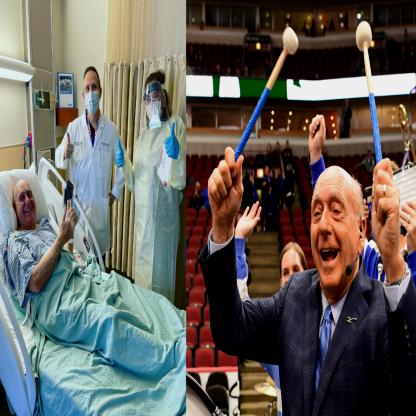Thumbs up: (60, 133, 78, 167), (112, 136, 128, 171)
